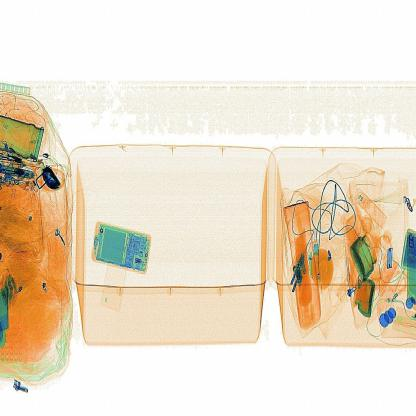scissors: (34, 158, 64, 195)
